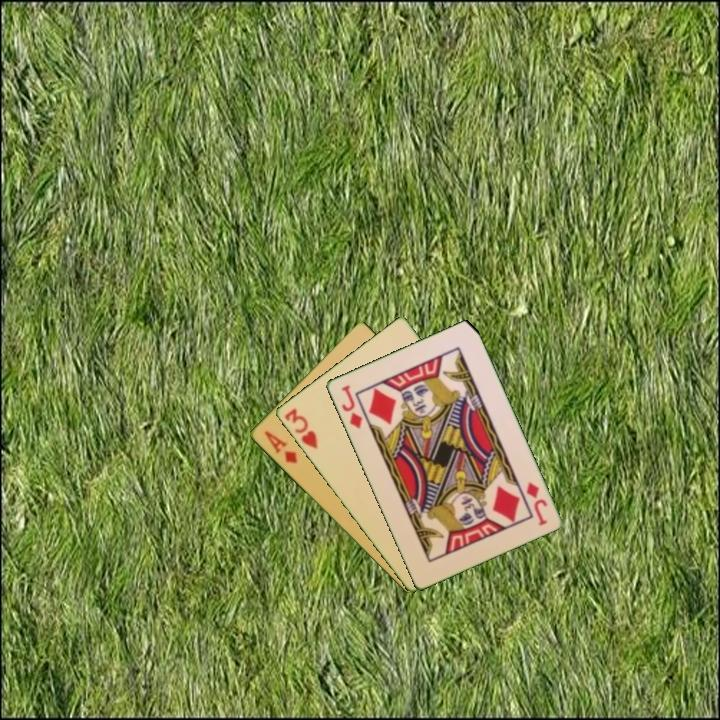3h: (281, 404, 320, 452)
Ad: (260, 427, 300, 467)
Jd: (337, 381, 365, 432), (522, 478, 550, 528)
